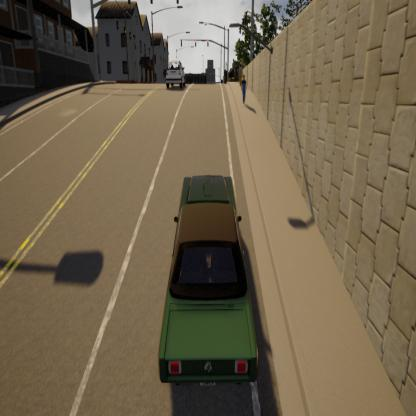Cars: (145, 163, 265, 396), (162, 56, 190, 91)
